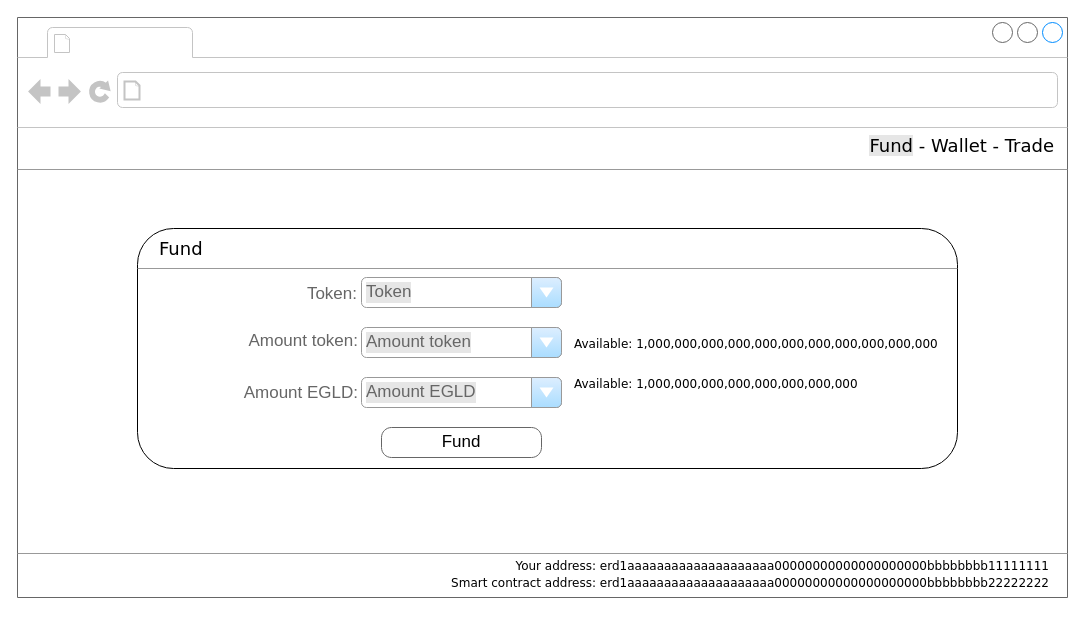
Image size: 1085x624. Some labels were removed from this diagram. Each missing label, with the centre of its shape:
"https://www.testdex.edu" belongs at [272,90].
"testDEX - fund" belongs at [132,42].
